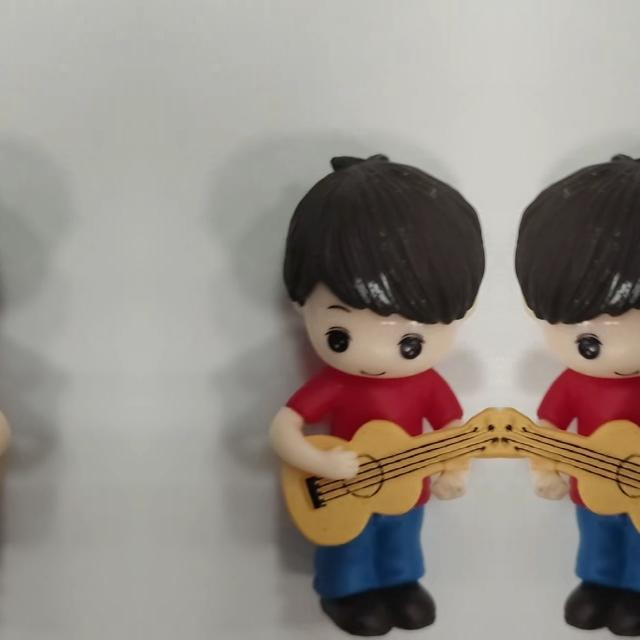man cloth: (286, 370, 466, 506), (534, 370, 640, 505)
man head: (278, 144, 488, 386), (512, 144, 640, 386), (0, 144, 2, 386)
trousers: (301, 500, 447, 638), (553, 500, 640, 638)
